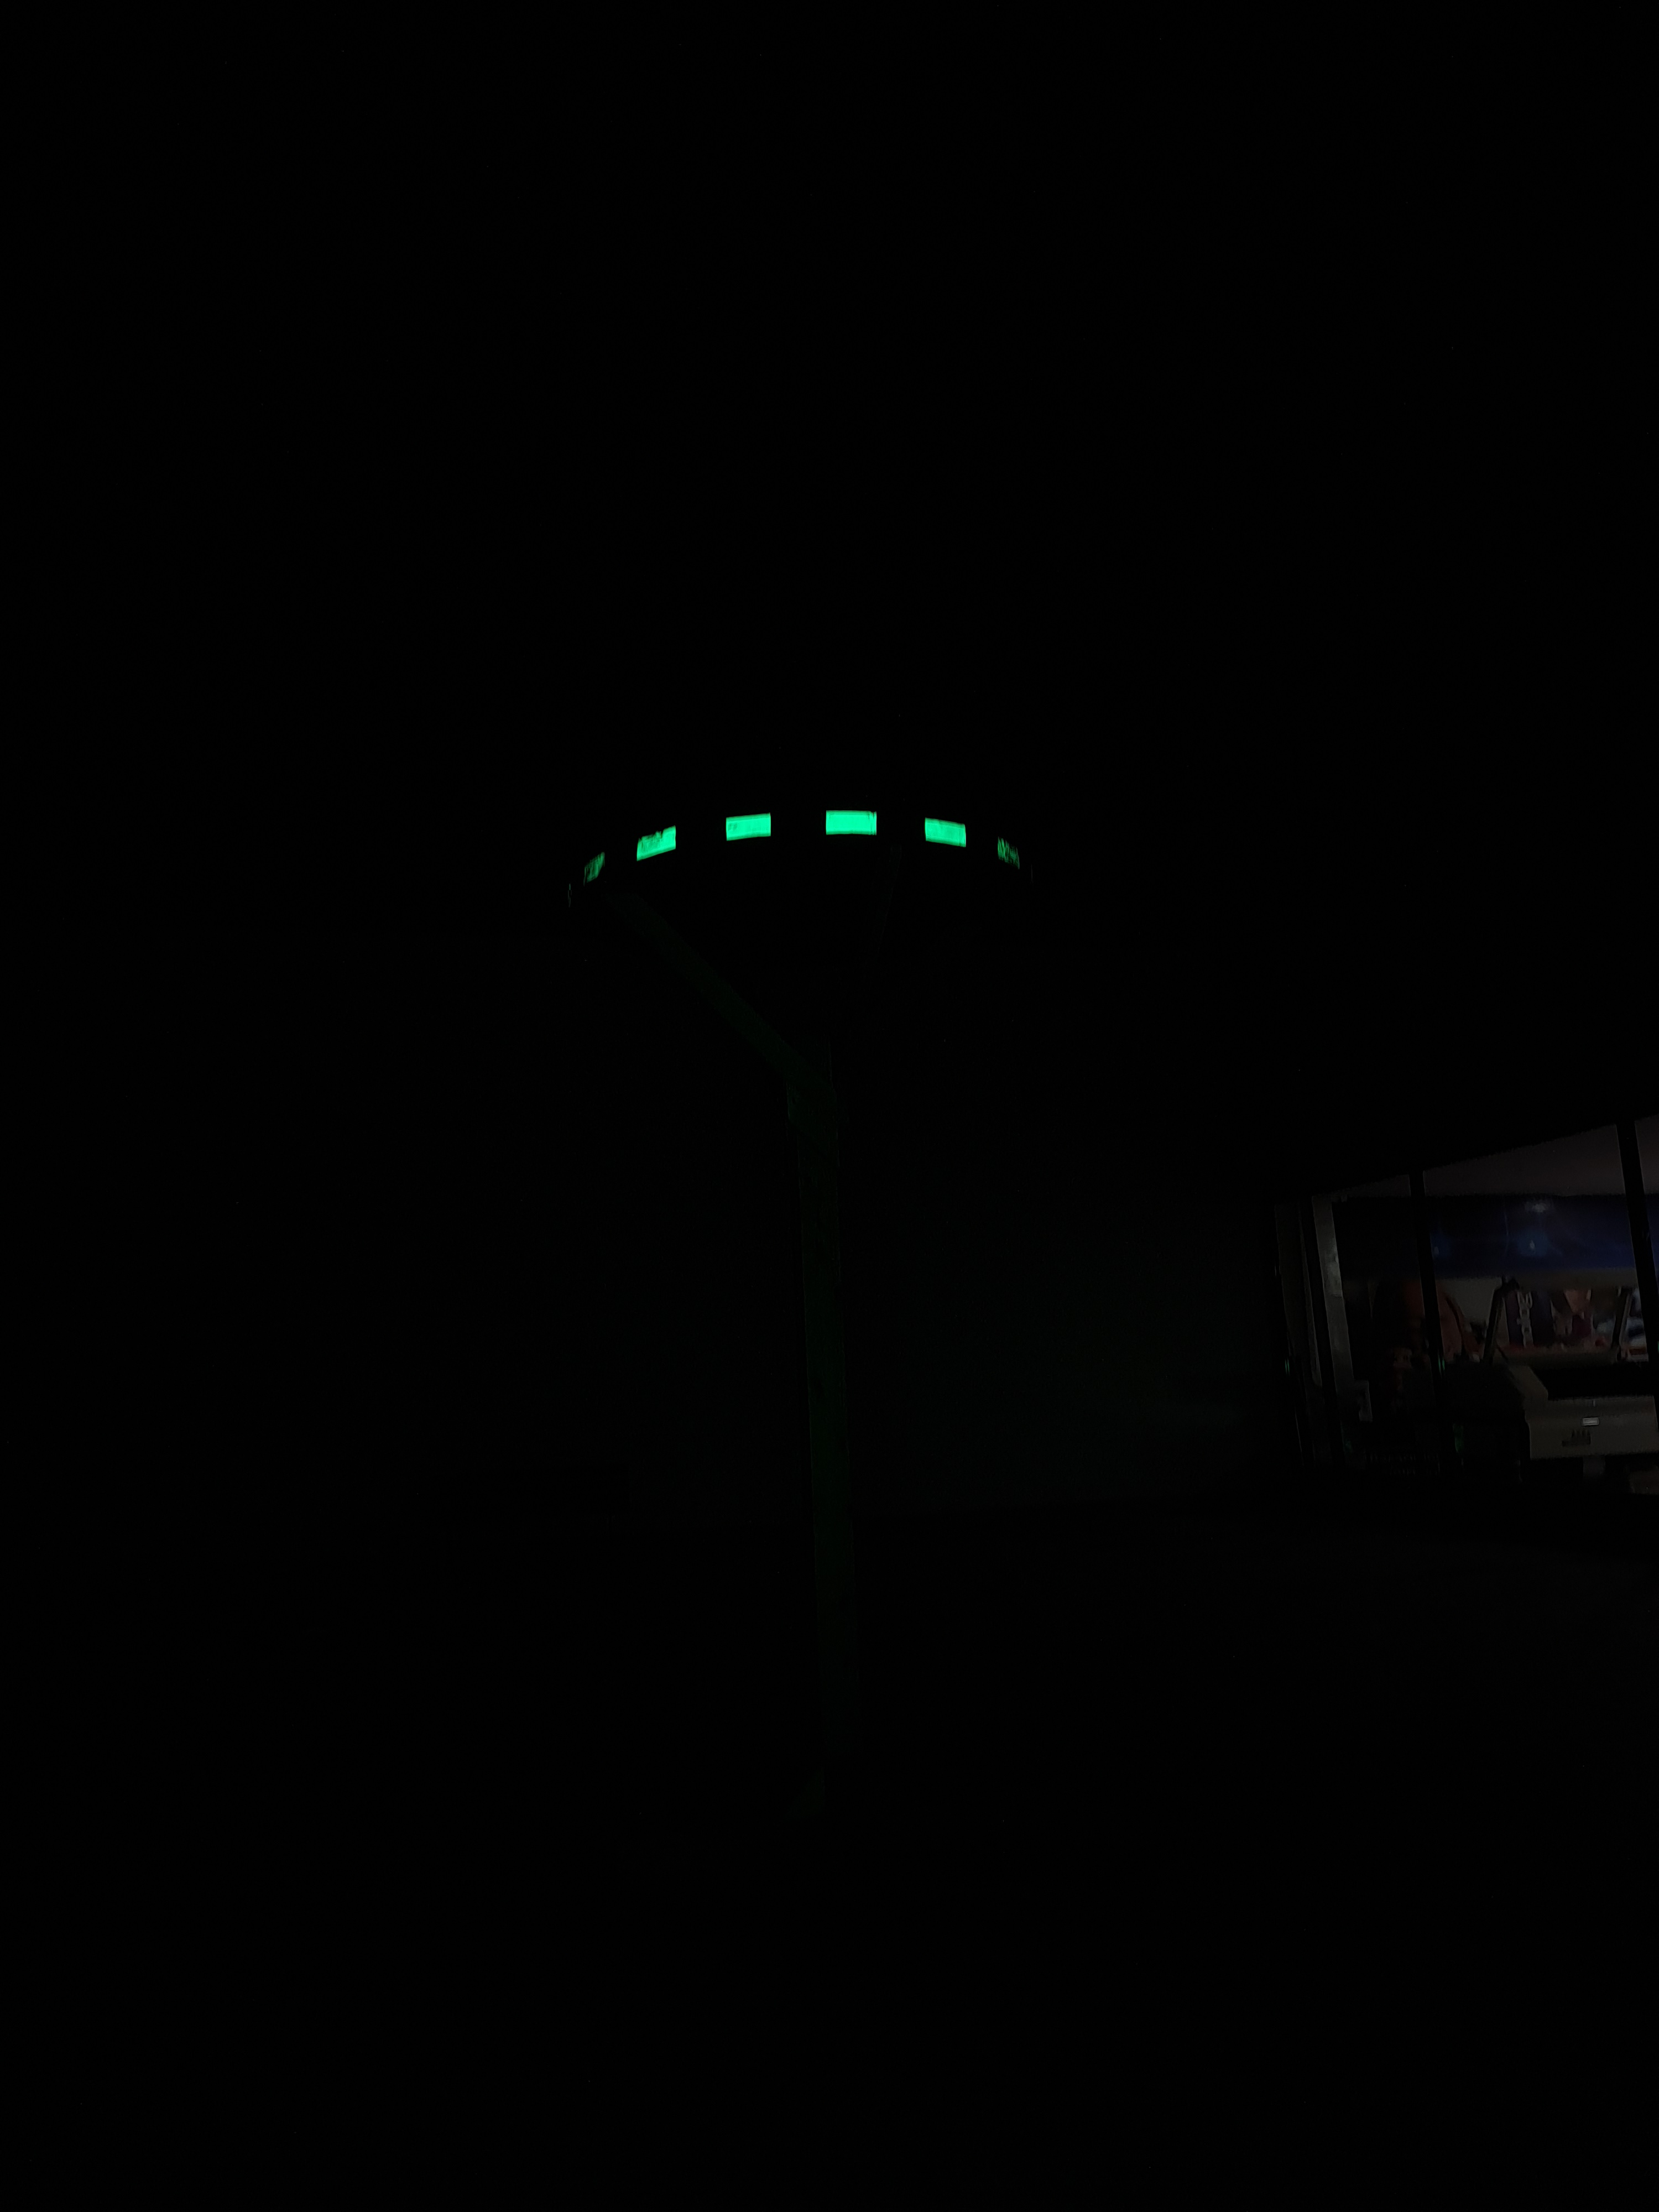hoop: (525, 799, 1033, 892)
